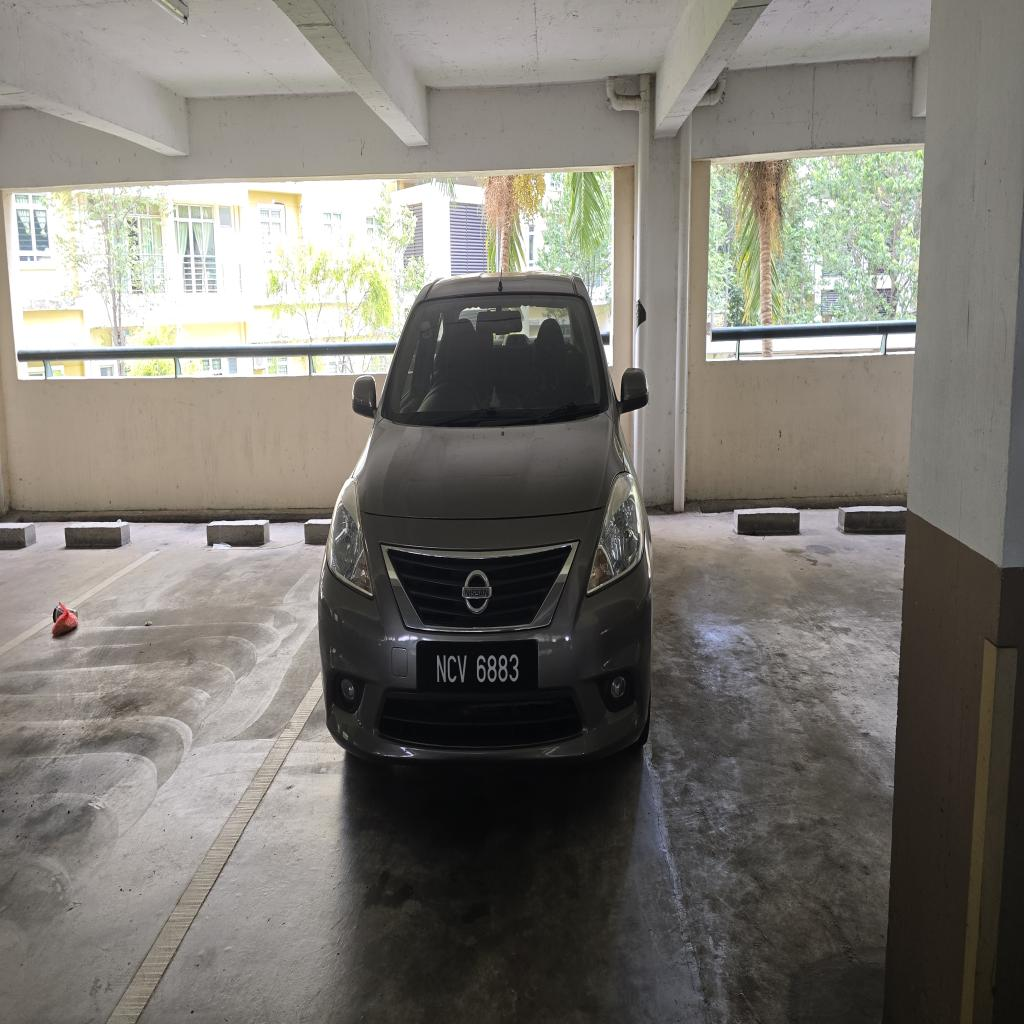car: (319, 274, 651, 758)
car plate: (417, 641, 537, 692)
